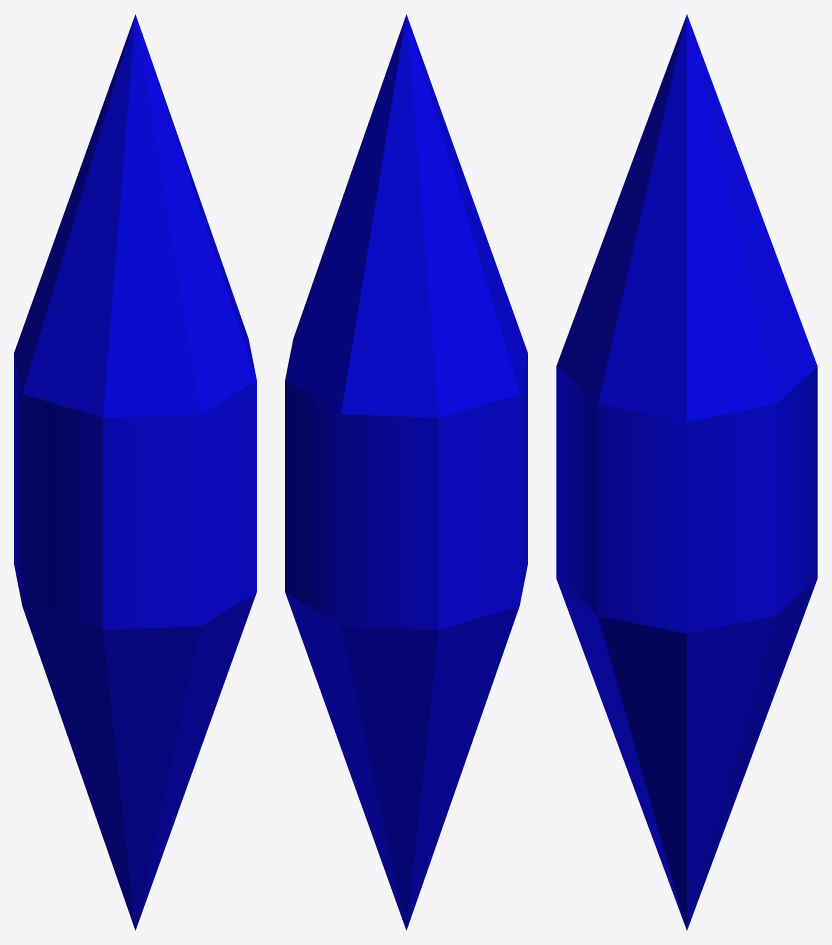
The model's file is Blue Gem.fbx.
3 renders of one model, left to right at view 1: azimuth 30°, elevation 25°; view 2: azimuth 150°, elevation 25°; view 3: azimuth 270°, elevation 25°, orthographic.
Visible parts, largest first — view 1: Lu_s_Gem; view 2: Lu_s_Gem; view 3: Lu_s_Gem.
Part boxes in pixels (box(x1,y1,x2,y2)): Lu_s_Gem: box(14, 14, 256, 930); Lu_s_Gem: box(285, 14, 527, 930); Lu_s_Gem: box(556, 14, 817, 930).
Bounding box in the file's own units: 0.5884 × 2.28 × 0.5884.
